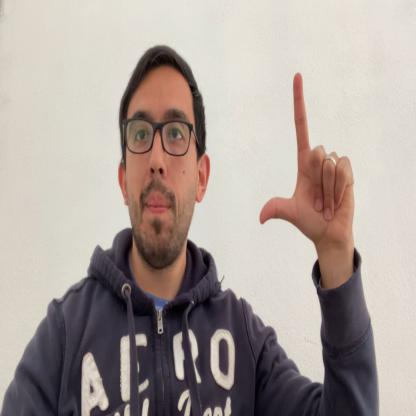L: (260, 72, 356, 243)
